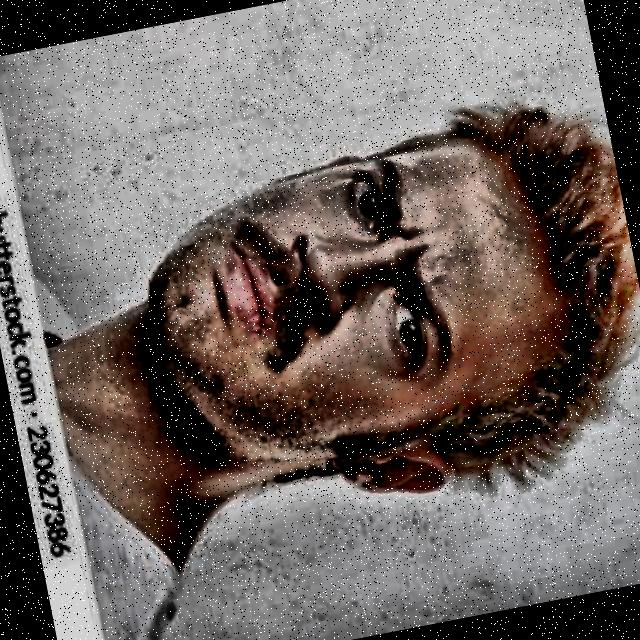angry: (121, 80, 640, 570)
